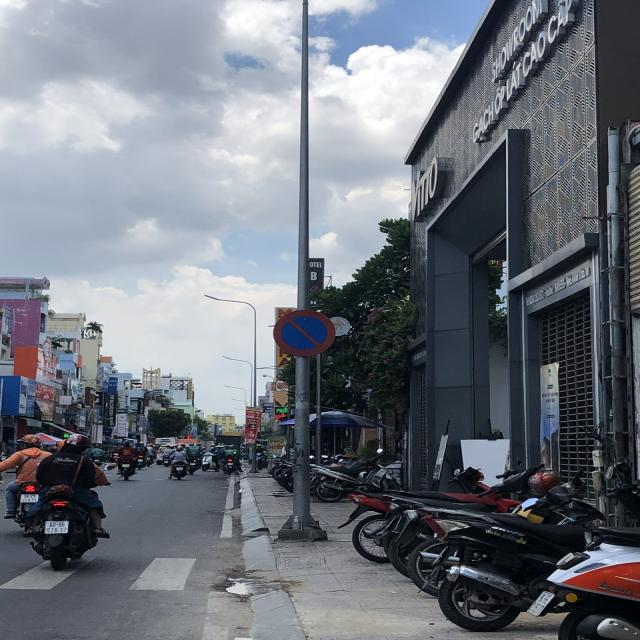Bien bao cam do xe: (270, 303, 336, 361)
